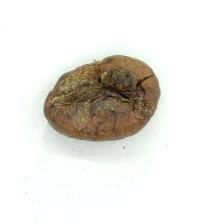NG: (47, 57, 146, 129)
